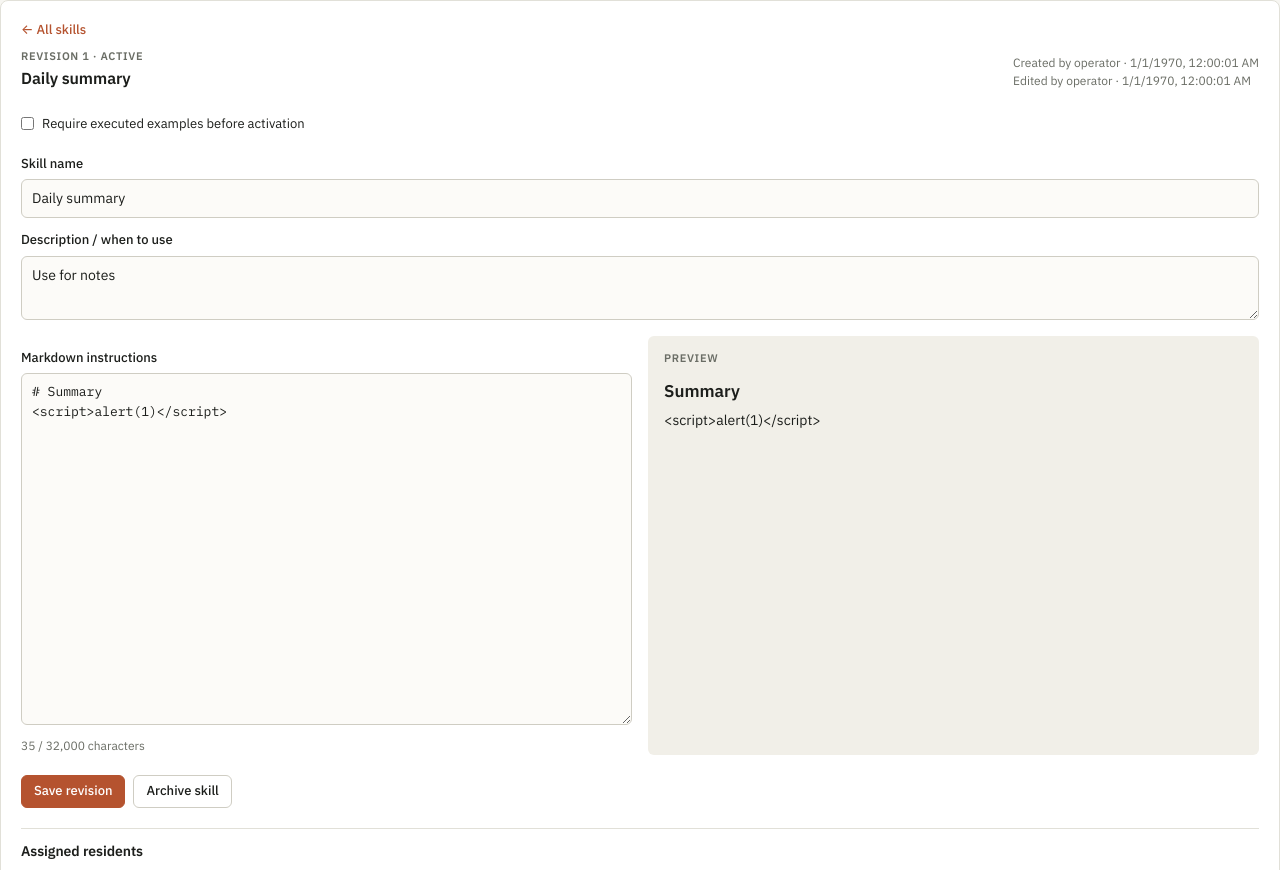
Test case: loads history without replacing the editor and archives using the displayed revision
This screenshot has width=1280, height=870.
Replace the text in the text box labelled "Markdown instructions" with "Unsaved draft": (326, 549) x1=21 y1=373 x2=632 y2=725
(page scrolled)
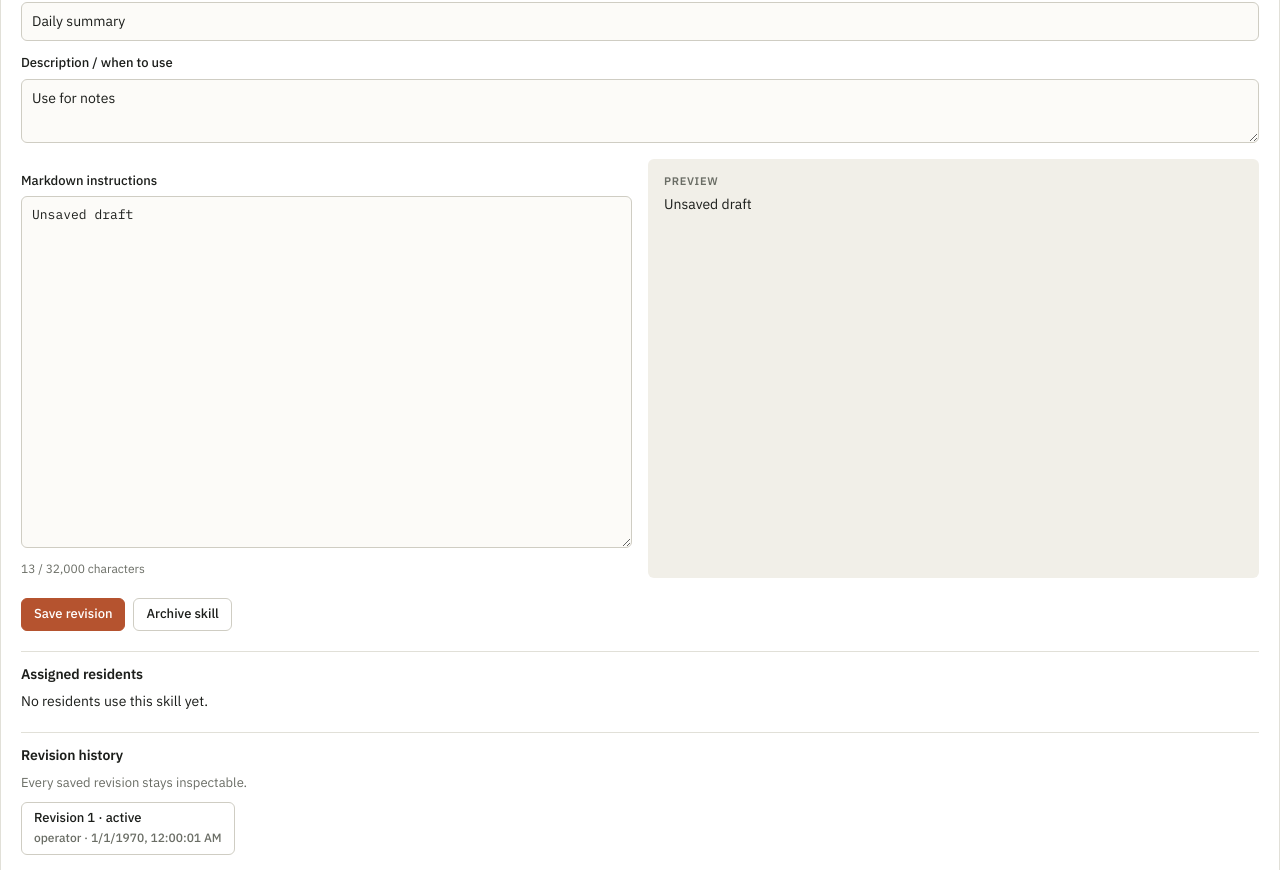
Click the button "Revision 1 · active operator · 1/1/1970, 12:00:01 AM": (128, 829) x1=21 y1=802 x2=235 y2=855
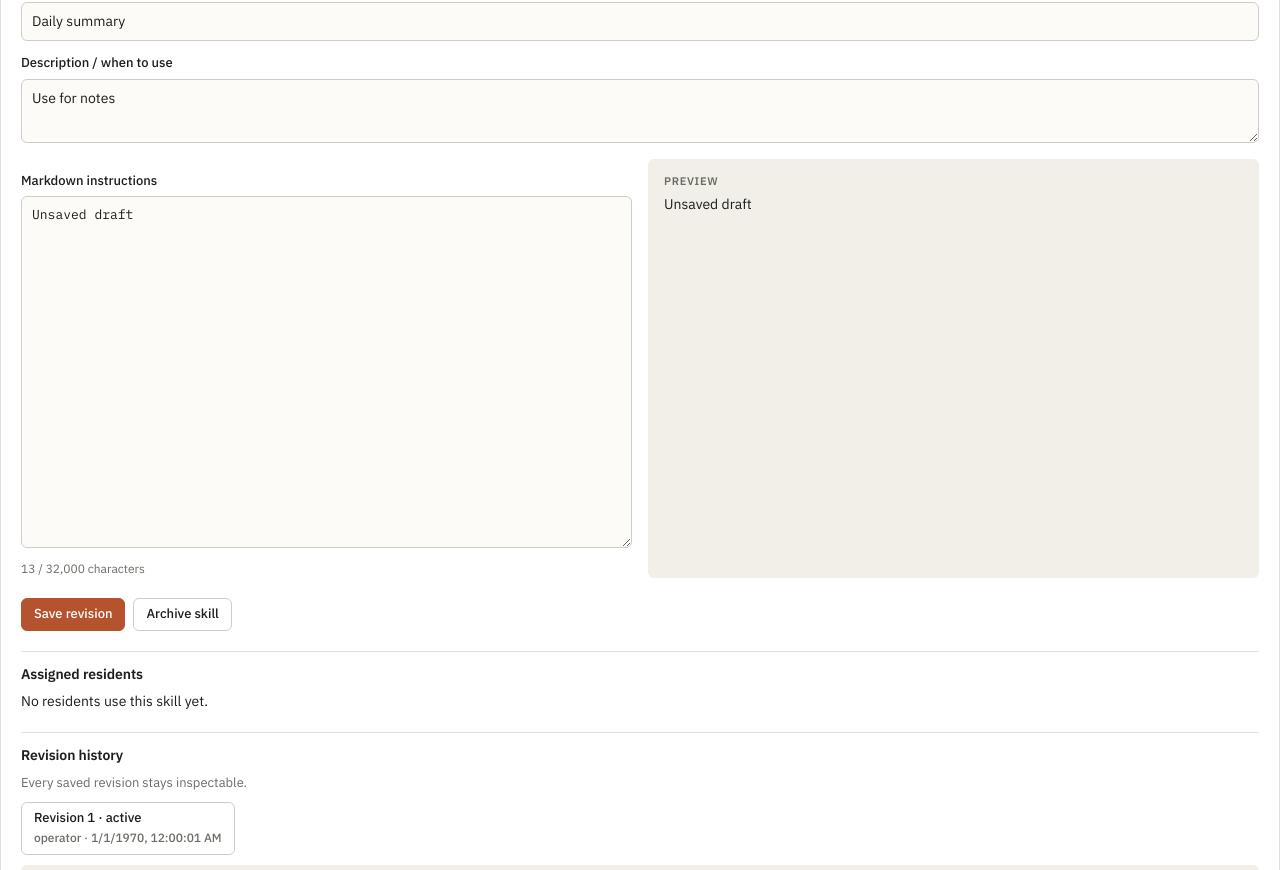
Click the button "Archive skill": (183, 614) x1=134 y1=598 x2=232 y2=631
(page scrolled)
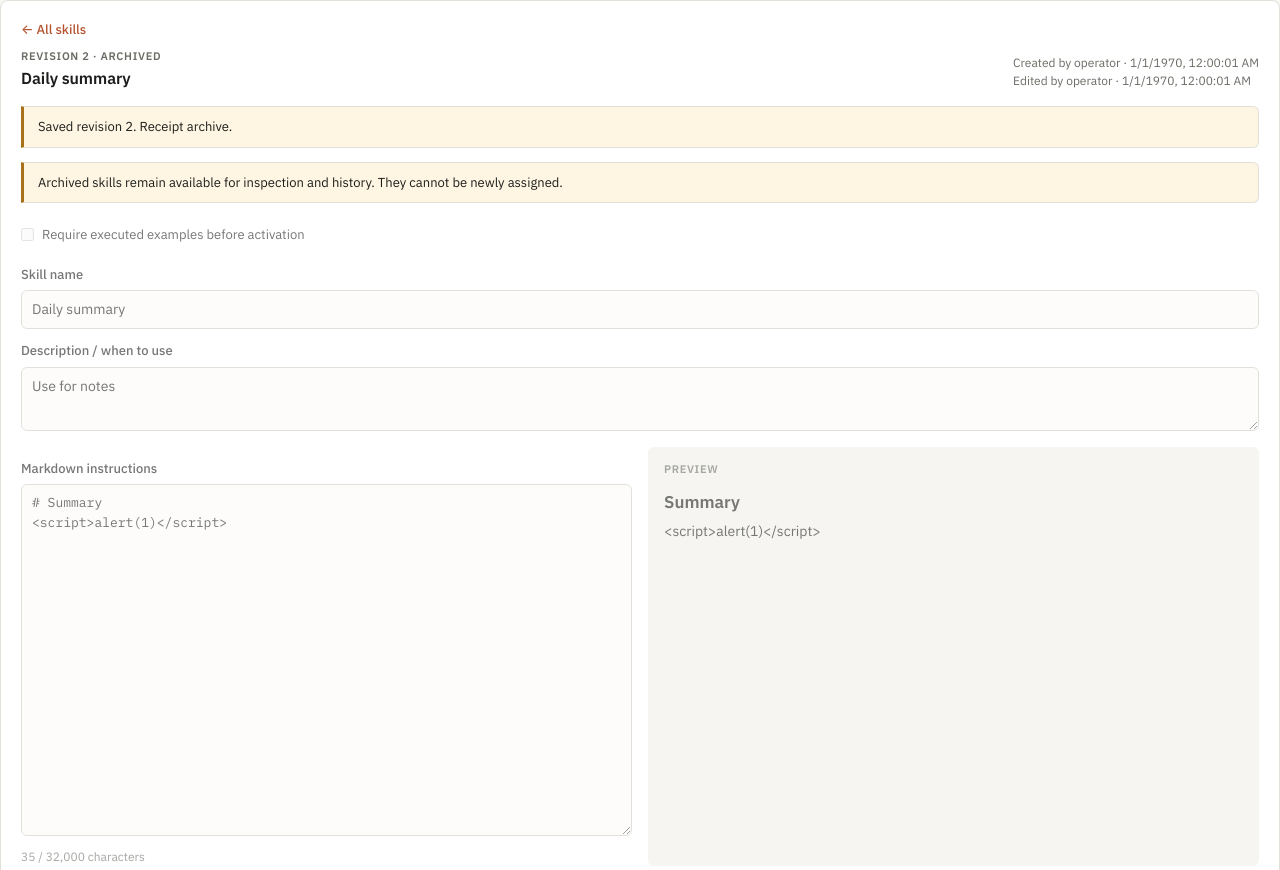
Expected: the text "Archived skills remain available" is shown, x1=38 y1=174 x2=563 y2=190
